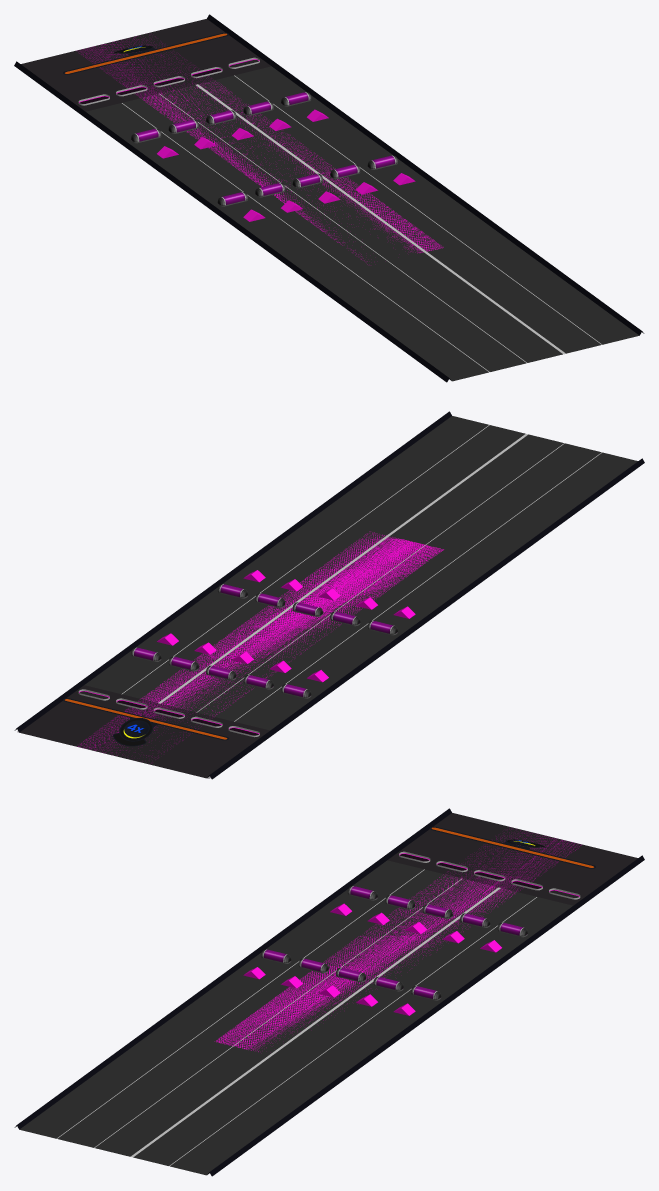
File: expert.obj
3 renders of one model, top to bottom at view 1: azimuth 30°, elevation 25°; view 2: azimuth 150°, elevation 25°; view 3: azimuth 330°, elevation 25°, orthographic.
Visible parts, largest first — view 1: Expert_Highway, Smasher_Board, Plane, Lane_Separators, Notes, Notes.001, Smashers, Energy_Lifts.001, Energy_Lifts, Overdrive_Background; view 2: Expert_Highway, Plane, Smasher_Board, Lane_Separators, Notes.001, Notes, Smashers, Energy_Lifts, Energy_Lifts.001, Multiplier, Overdrive_Background; view 3: Expert_Highway, Smasher_Board, Plane, Lane_Separators, Notes, Notes.001, Smashers, Energy_Lifts.001, Energy_Lifts, Overdrive_Background.
Part boxes in pixels (left/top/right/bottom): Expert_Highway: left=14, top=14, right=644, bottom=382; Smasher_Board: left=21, top=19, right=270, bottom=111; Plane: left=76, top=36, right=443, bottom=264; Lane_Separators: left=122, top=75, right=602, bottom=372; Notes: left=131, top=92, right=311, bottom=143; Notes.001: left=217, top=155, right=397, bottom=206; Smashers: left=78, top=57, right=259, bottom=105; Energy_Lifts.001: left=157, top=109, right=328, bottom=158; Energy_Lifts: left=243, top=173, right=415, bottom=221; Overdrive_Background: left=63, top=32, right=228, bottom=74; Expert_Highway: left=14, top=411, right=644, bottom=779; Plane: left=78, top=531, right=443, bottom=755; Smasher_Board: left=17, top=685, right=269, bottom=778; Lane_Separators: left=121, top=425, right=602, bottom=721; Notes.001: left=217, top=584, right=397, bottom=635; Notes: left=131, top=647, right=311, bottom=698; Smashers: left=78, top=689, right=259, bottom=737; Energy_Lifts: left=243, top=570, right=415, bottom=618; Energy_Lifts.001: left=157, top=633, right=328, bottom=682; Multiplier: left=113, top=718, right=153, bottom=746; Overdrive_Background: left=63, top=698, right=229, bottom=740; Expert_Highway: left=14, top=808, right=644, bottom=1176; Smasher_Board: left=388, top=813, right=637, bottom=905; Plane: left=214, top=831, right=581, bottom=1051; Lane_Separators: left=56, top=869, right=536, bottom=1166; Notes: left=347, top=886, right=527, bottom=937; Notes.001: left=261, top=949, right=441, bottom=1000; Smashers: left=399, top=851, right=580, bottom=899; Energy_Lifts.001: left=330, top=903, right=501, bottom=952; Energy_Lifts: left=243, top=967, right=415, bottom=1015; Overdrive_Background: left=430, top=826, right=595, bottom=868.
Bounding box in the file's own units: 5.28 × 0.3632 × 20.
